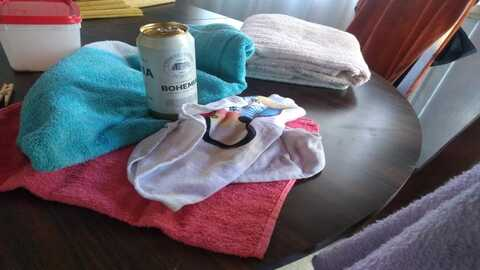bohemia: (132, 24, 203, 120)
